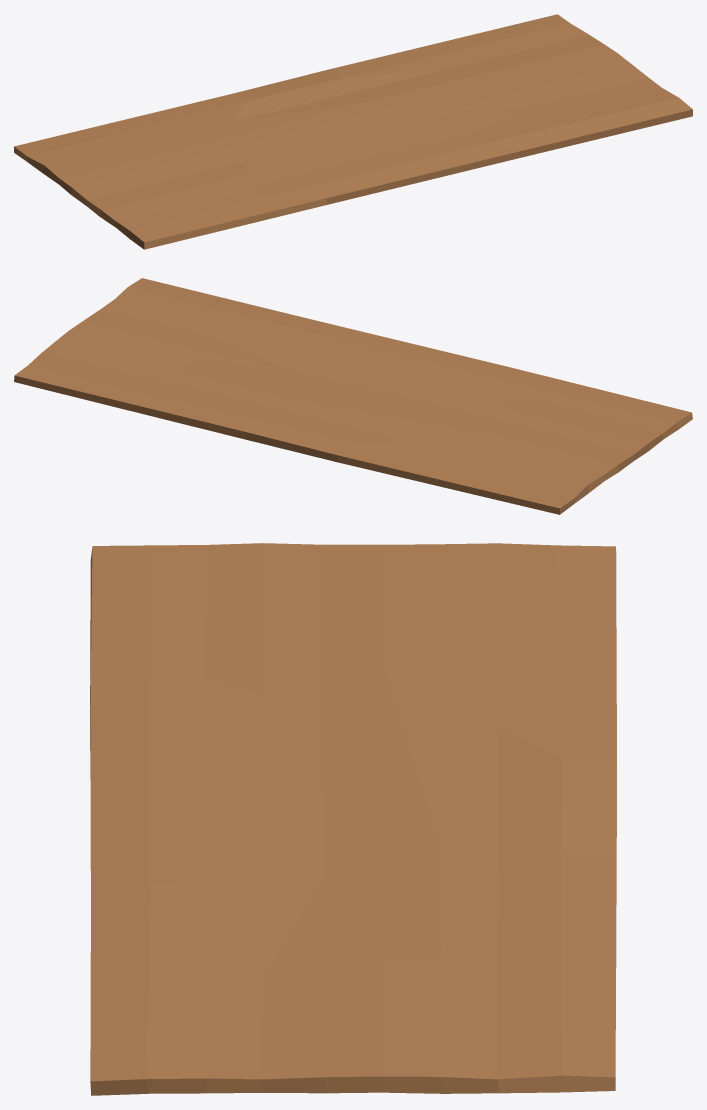
File: floor2LowPoly.fbx
3 renders of one model, top to bottom at view 1: azimuth 30°, elevation 25°; view 2: azimuth 150°, elevation 25°; view 3: azimuth 270°, elevation 25°, orthographic. The views are drawn at different scales.
Parts seen in each view (by area): view 1: floor2LowPoly; view 2: floor2LowPoly; view 3: floor2LowPoly.
Boxes of the visible parts, x1=… form: floor2LowPoly: x1=14, y1=14, x2=692, y2=249; floor2LowPoly: x1=14, y1=278, x2=692, y2=514; floor2LowPoly: x1=90, y1=543, x2=616, y2=1095.
Size of the model in its own units: 616 by 11.67 by 256.
